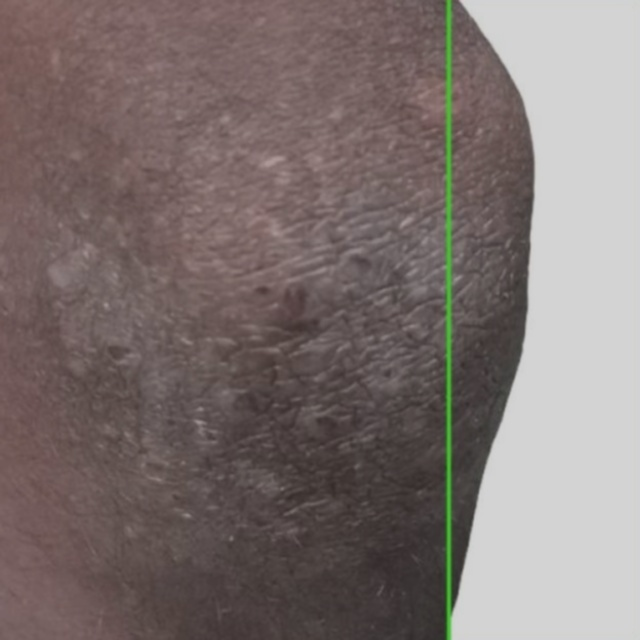Eczema: (449, 0, 639, 639)
